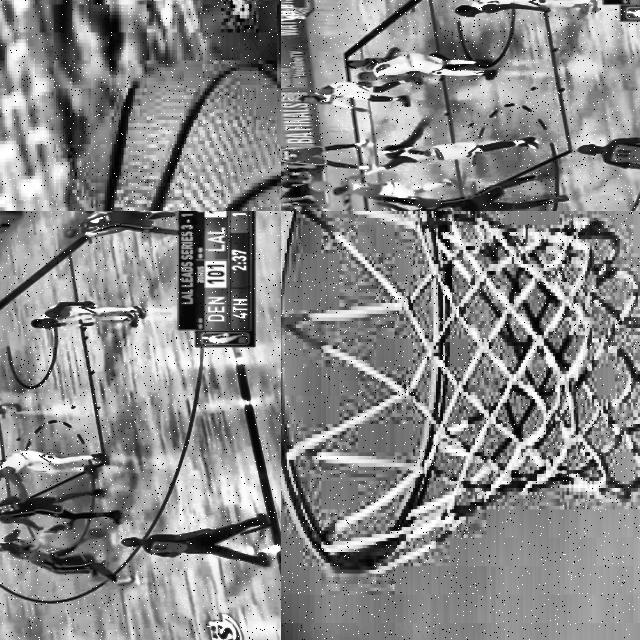Basketball: (68, 59, 281, 211), (85, 528, 105, 538), (310, 180, 328, 191)
